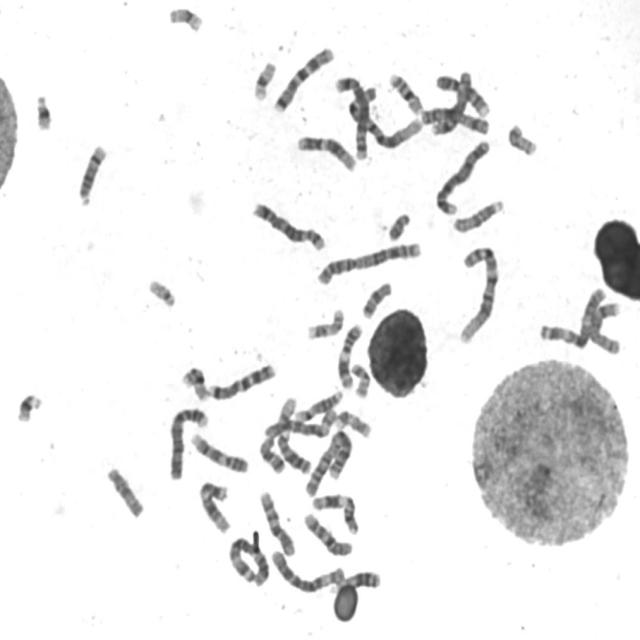A1: (331, 72, 425, 152), (454, 240, 502, 346)
A2: (313, 237, 424, 287), (302, 426, 354, 498)
A3: (537, 286, 609, 349), (225, 532, 272, 588)
B4: (432, 135, 492, 217), (165, 402, 210, 482)
B5: (249, 198, 328, 252), (331, 71, 374, 161)
C10: (256, 487, 297, 557), (301, 508, 355, 559)
C11: (308, 488, 361, 536), (334, 319, 365, 391)
C12: (293, 130, 358, 173), (196, 476, 232, 535)
C6: (268, 546, 347, 596), (260, 404, 339, 440)
C7: (270, 41, 336, 114), (205, 359, 278, 402)
C8: (428, 67, 474, 136), (587, 299, 623, 356)
C9: (187, 428, 250, 475), (433, 70, 493, 118)
D13: (274, 428, 314, 476), (329, 571, 382, 594)
D14: (75, 140, 109, 207), (292, 386, 345, 423)
D15: (103, 462, 147, 520), (449, 195, 507, 235)
E16: (386, 68, 424, 116), (178, 362, 211, 402)
E17: (304, 304, 346, 341), (332, 405, 373, 440)
E18: (358, 277, 394, 320), (256, 433, 287, 475)
F19: (165, 2, 205, 34), (250, 57, 278, 102)
F20: (504, 119, 540, 157), (348, 359, 373, 399)
G21: (13, 388, 44, 424), (31, 90, 54, 132)
G22: (145, 274, 178, 309), (276, 396, 298, 425)
X: (417, 103, 492, 135)
Y: (384, 208, 412, 242)
